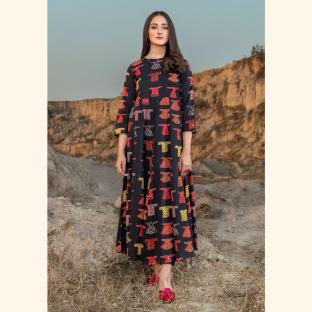Human: (115, 11, 198, 301)
